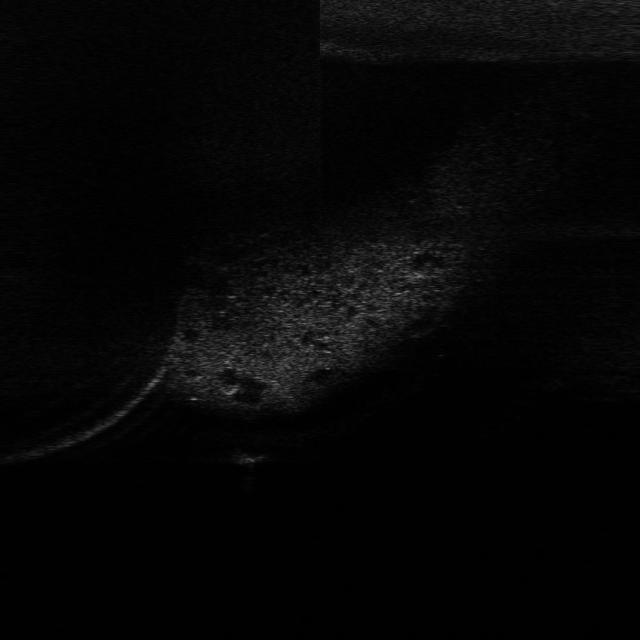cube: (224, 443, 276, 468)
